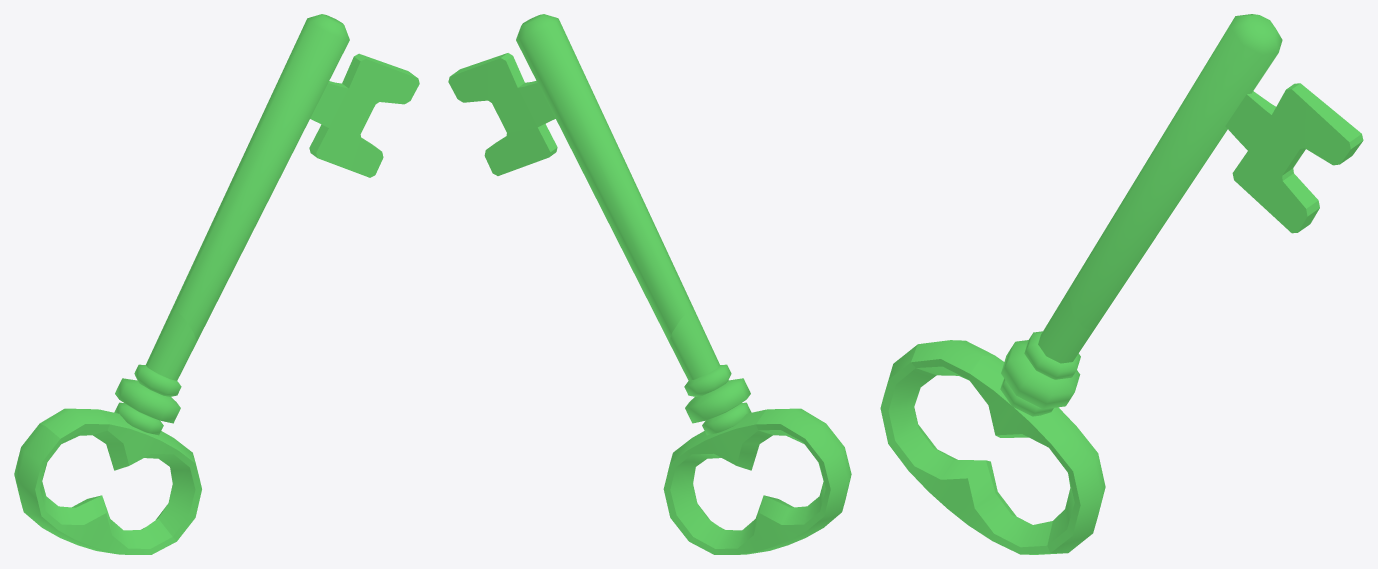
The model's file is key_02.glb.
The picture shows the model from 3 angles, left to right: view 1: azimuth 30°, elevation 25°; view 2: azimuth 150°, elevation 25°; view 3: azimuth 330°, elevation 25°; orthographic projection. The views are drawn at different scales.
Parts seen in each view (by area): view 1: key.002, key.001, key.006, key.004, key.003, key.005; view 2: key.002, key.001, key.006, key.004, key.003, key.005; view 3: key.002, key.001, key.006, key.004, key.005, key.003.
Part boxes in pixels (x1,y1,x2,y2): key.002: [172, 14, 349, 341]; key.001: [93, 309, 201, 541]; key.006: [14, 423, 176, 554]; key.004: [309, 53, 383, 177]; key.003: [40, 408, 109, 443]; key.005: [372, 58, 419, 104]; key.002: [516, 14, 693, 341]; key.001: [663, 309, 772, 540]; key.006: [689, 424, 851, 554]; key.004: [484, 53, 557, 175]; key.003: [756, 408, 825, 443]; key.005: [448, 57, 495, 102]; key.002: [1069, 14, 1282, 329]; key.001: [969, 281, 1105, 553]; key.006: [880, 344, 1062, 554]; key.004: [1232, 83, 1319, 233]; key.005: [1304, 95, 1363, 165]; key.003: [911, 340, 994, 380].
Size of the model in its own units: 1.02 by 1.21 by 0.1479.
